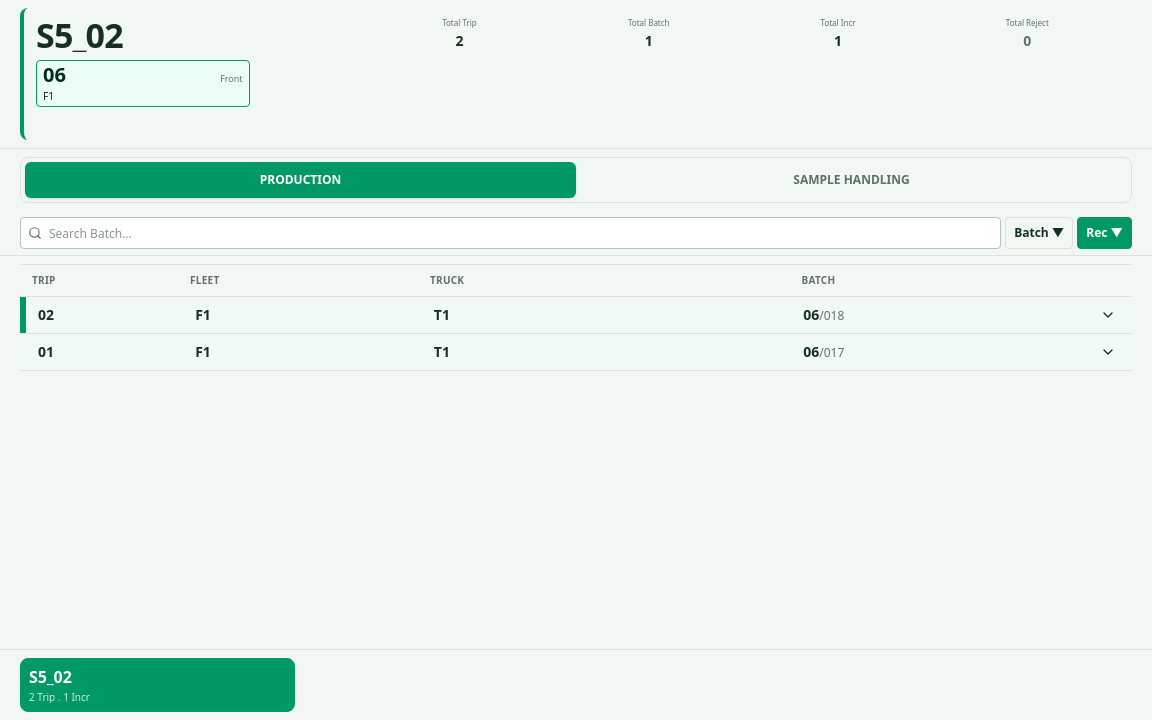
ProductionPage Record workspace › keeps production details collapsed until one row is opened, and closes the previous row
expect the text "01" is shown: met, box [38, 342, 54, 361]
expect the text "Condition" is not shown: met
Click the button "01 F1 T1 06/017" at point(46, 352), box [20, 334, 1132, 370]
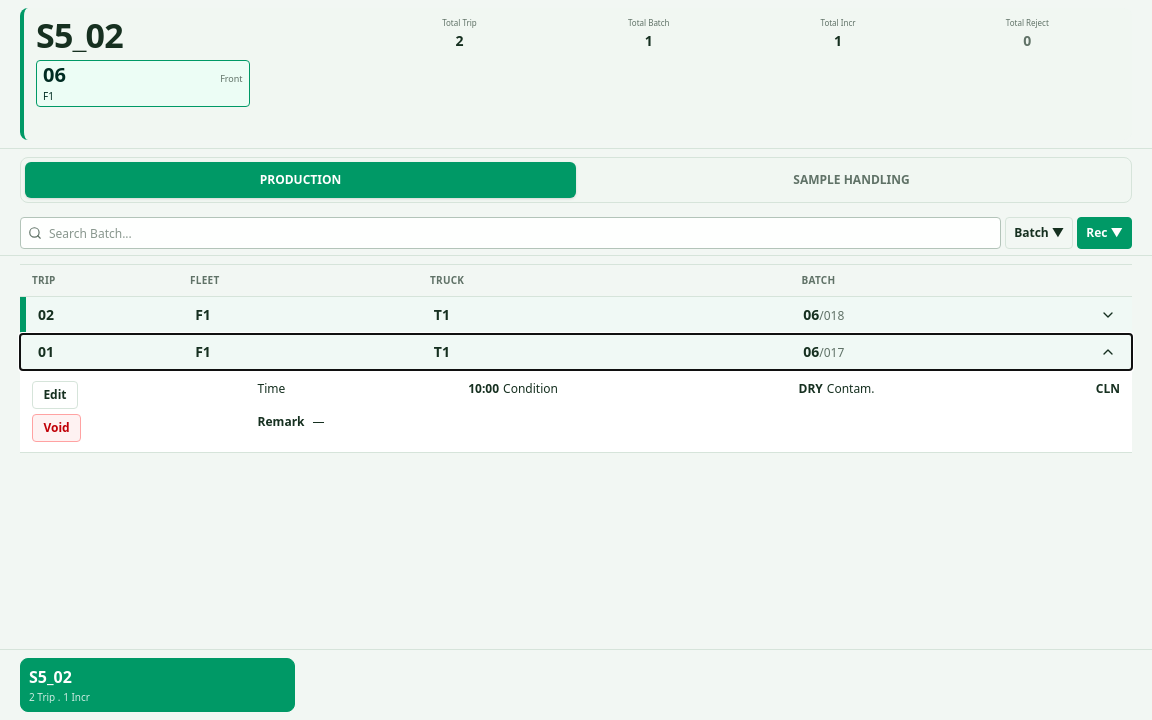
expect the text "Time" is shown: met, box [258, 380, 285, 397]
expect the text "Condition" is shown: met, box [503, 380, 558, 397]
expect the text "Contam." is shown: met, box [827, 380, 875, 397]
Click the button "02 F1 T1 06/018" at point(46, 314), box [20, 297, 1132, 333]
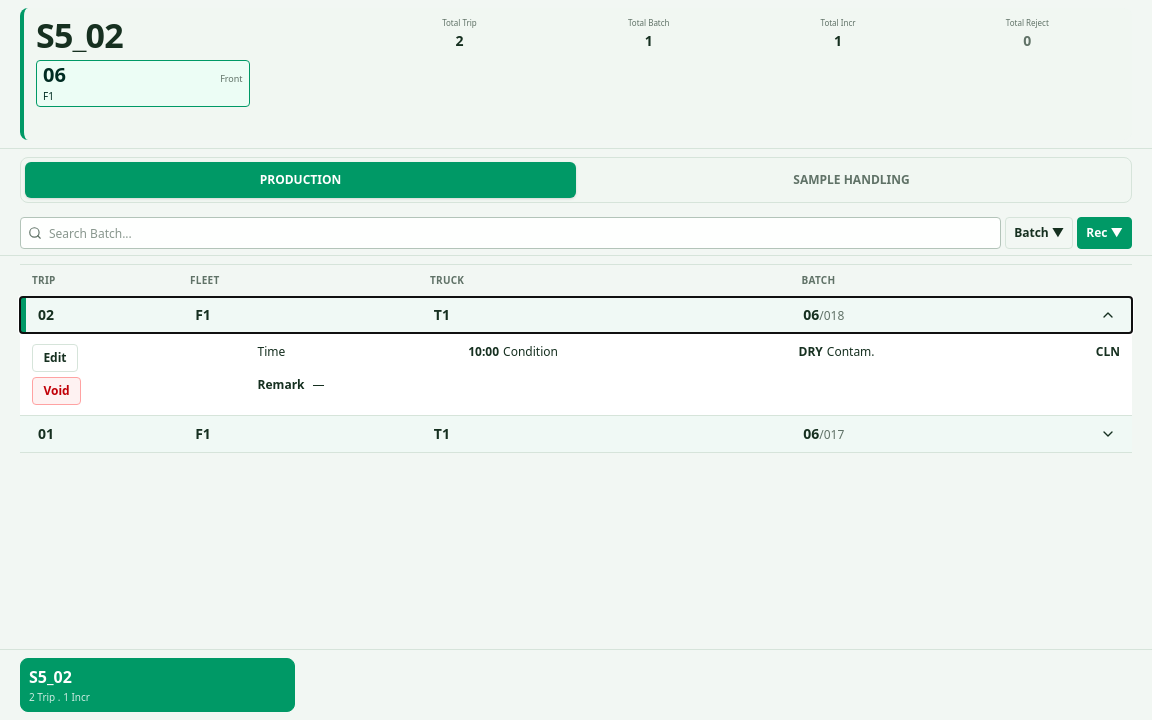
expect the text "Condition" is shown once: met, box [503, 344, 823, 372]
Click the button "02 F1 T1 06/018" at point(46, 314), box [20, 297, 1132, 333]
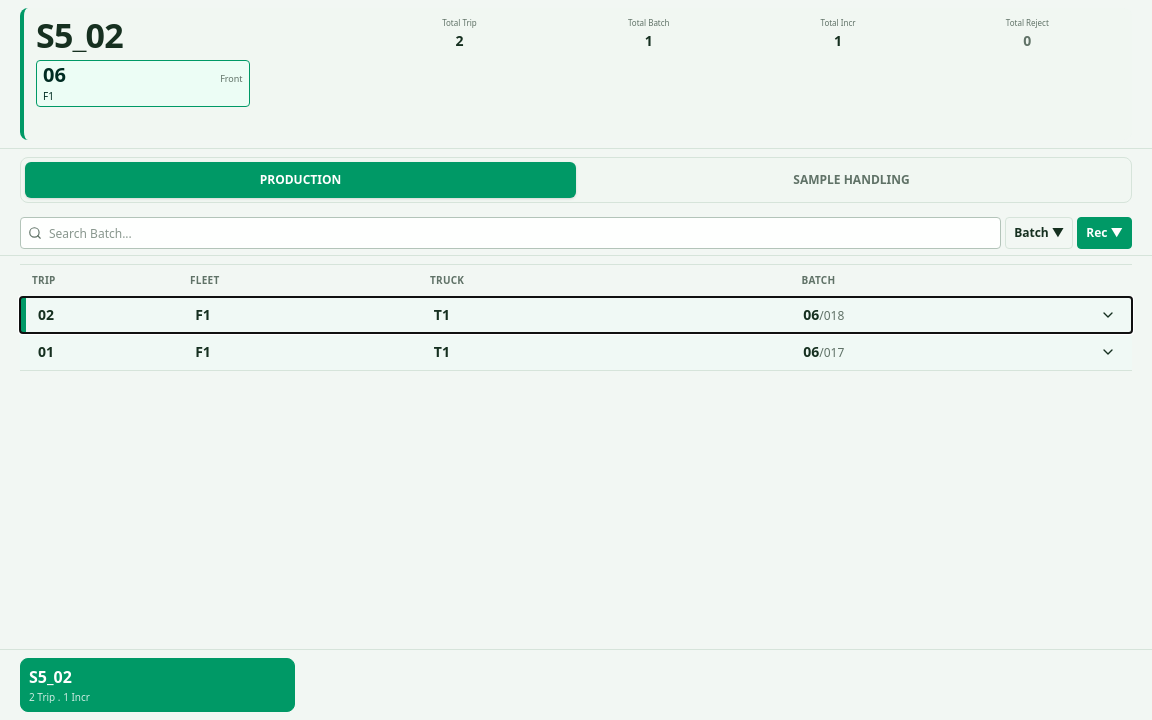
expect the text "Condition" is gone: met
